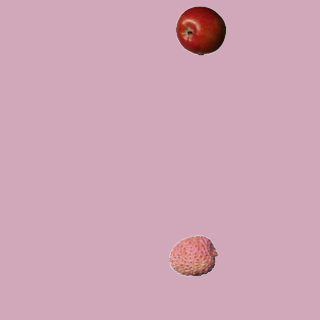Apple Braeburn: (175, 5, 225, 55)
Lychee: (168, 230, 218, 280)
